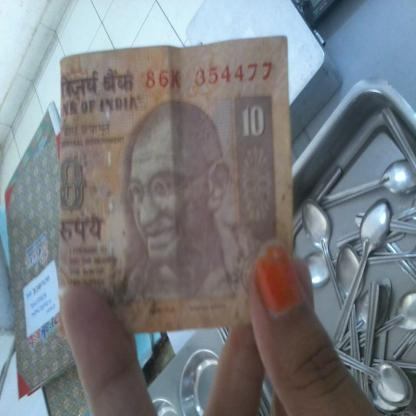Old10Front: (56, 33, 294, 335)
